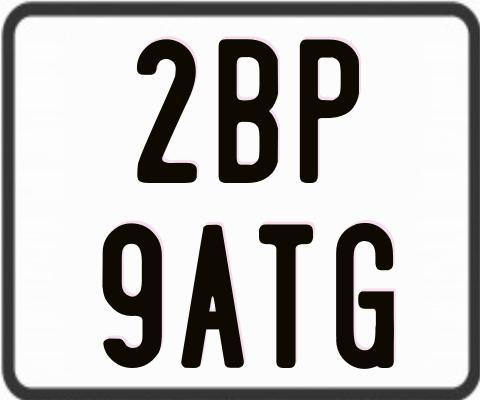2: (134, 37, 198, 187)
9: (100, 222, 162, 373)
A: (178, 225, 241, 370)
B: (219, 38, 278, 187)
G: (333, 220, 392, 366)
P: (299, 36, 359, 181)
T: (257, 222, 313, 369)
